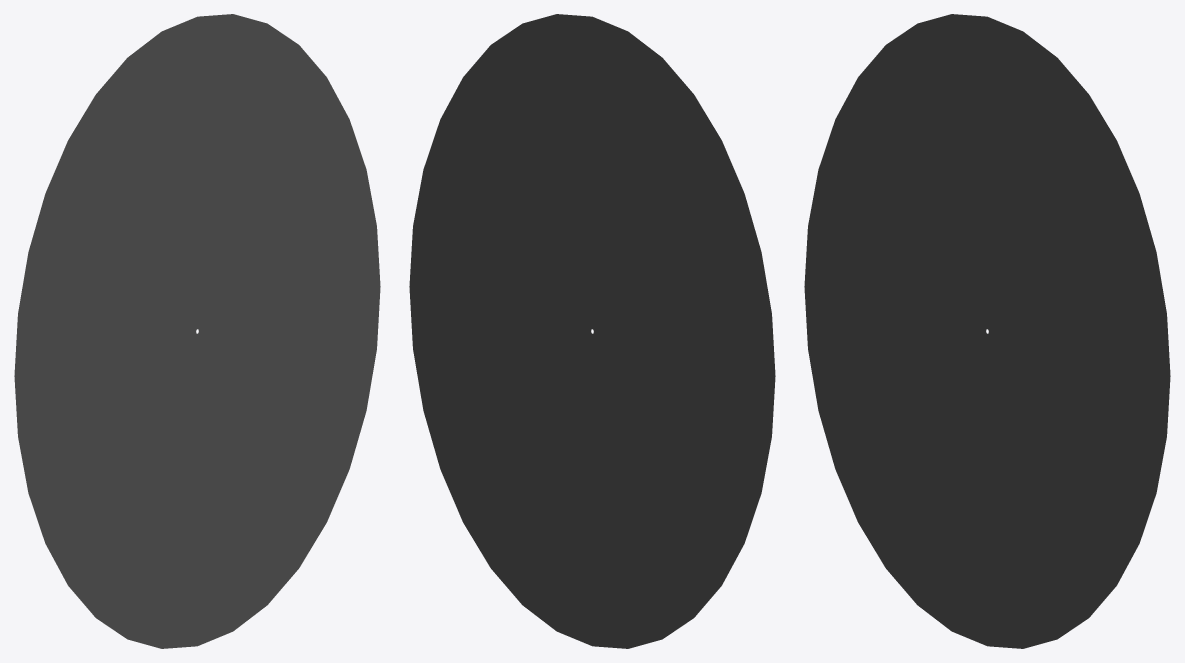
File: portal_mask.gltf
3 views of the same model, side by side, from view 1: azimuth 30°, elevation 25°; view 2: azimuth 150°, elevation 25°; view 3: azimuth 330°, elevation 25° (orthographic).
Visible parts, largest first — view 1: PortalMask; view 2: PortalMask; view 3: PortalMask.
Boxes of the visible parts, x1,y1,x2,y2 form: PortalMask: (14, 14, 380, 648); PortalMask: (409, 14, 775, 648); PortalMask: (804, 14, 1170, 648).
Bounding box in the file's own units: 140 × 229 × 9.39e-06.
Materials: 1 (1 with a texture image).
